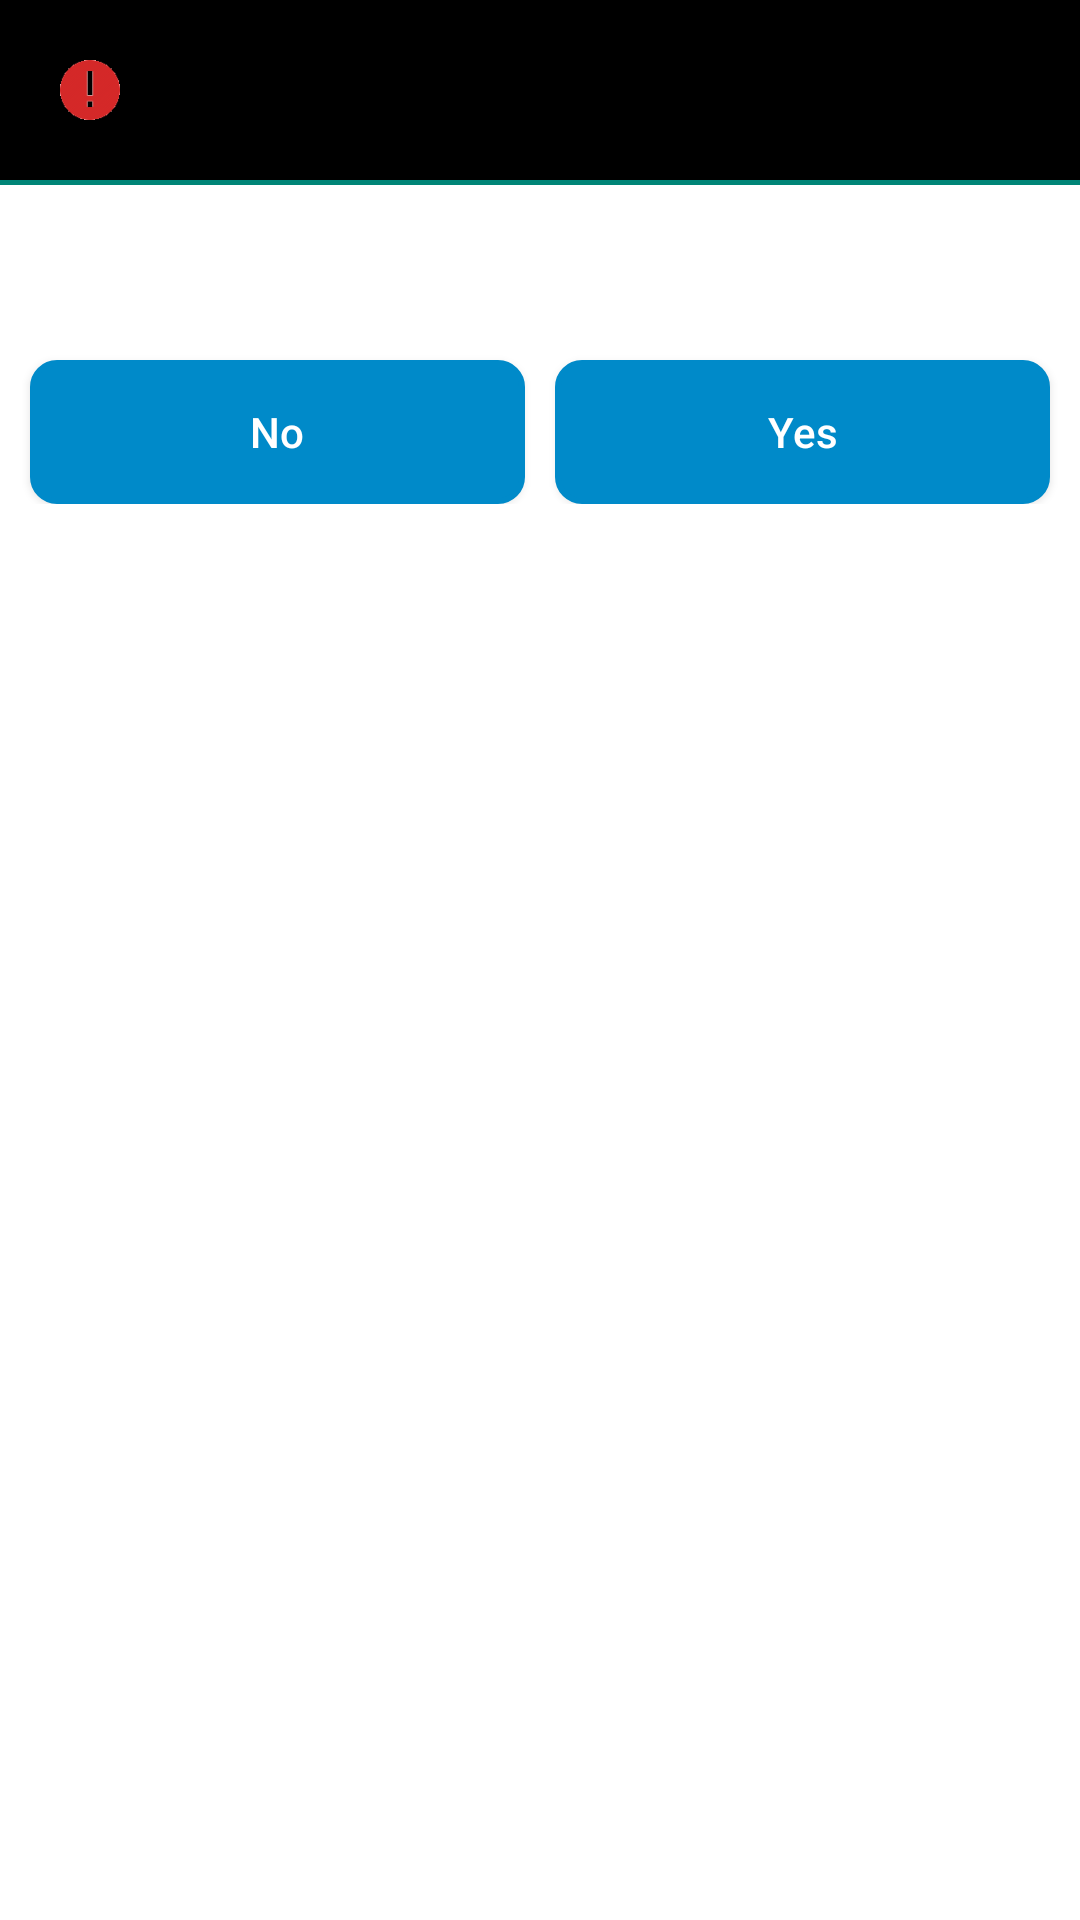

Icons on this 1080*1920 Android screen, each with its box as (x1, y1, x2, y2):
error: (60, 60, 120, 120)
